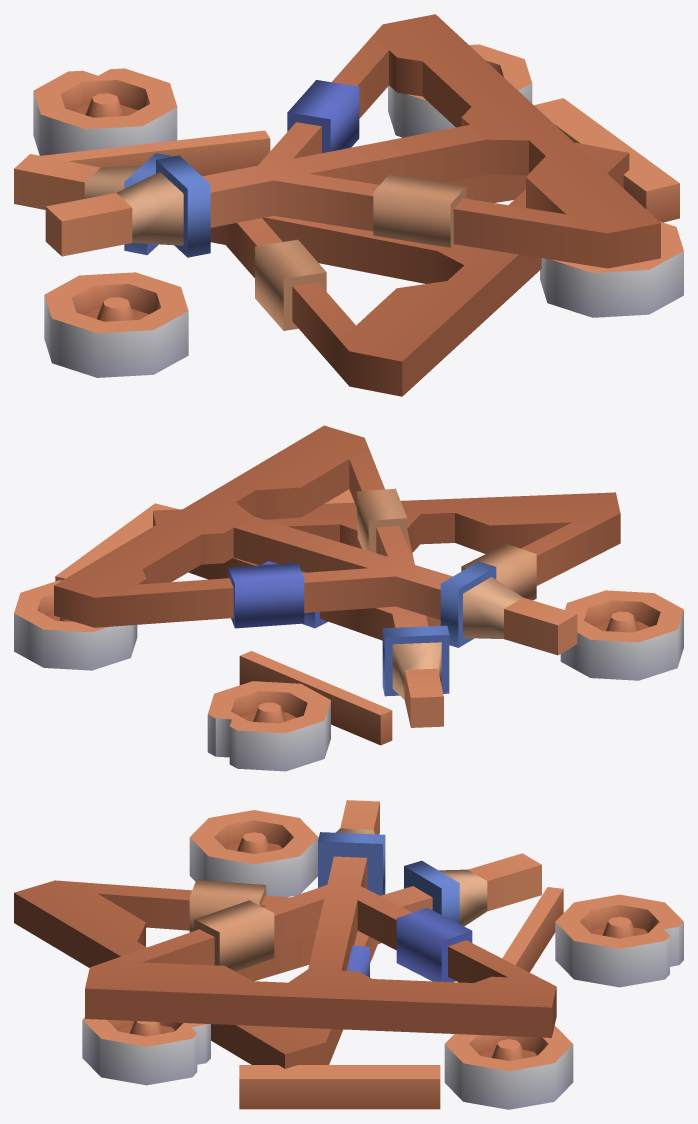
File: siege-trebuchet-demolished.glb
The picture shows the model from 3 angles, top to bottom: view 1: azimuth 30°, elevation 25°; view 2: azimuth 150°, elevation 25°; view 3: azimuth 270°, elevation 25°; orthographic projection. The views are drawn at different scales.
Visible parts, largest first — view 1: siege-trebuchet-demolished; view 2: siege-trebuchet-demolished; view 3: siege-trebuchet-demolished.
Part boxes in pixels (x1,y1,x2,y2): siege-trebuchet-demolished: [14, 14, 683, 396]; siege-trebuchet-demolished: [14, 425, 683, 771]; siege-trebuchet-demolished: [14, 800, 683, 1109].
Size of the model in its own units: 1.93 by 0.3097 by 2.1.
Materials: 1 (1 with a texture image).
